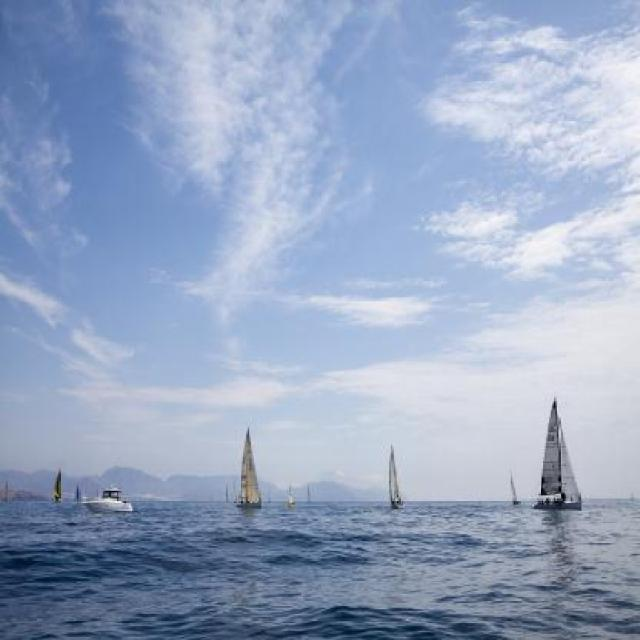ship: (530, 396, 582, 509), (234, 426, 260, 508), (80, 483, 134, 512), (385, 445, 404, 510), (53, 464, 62, 502), (509, 471, 518, 504)
